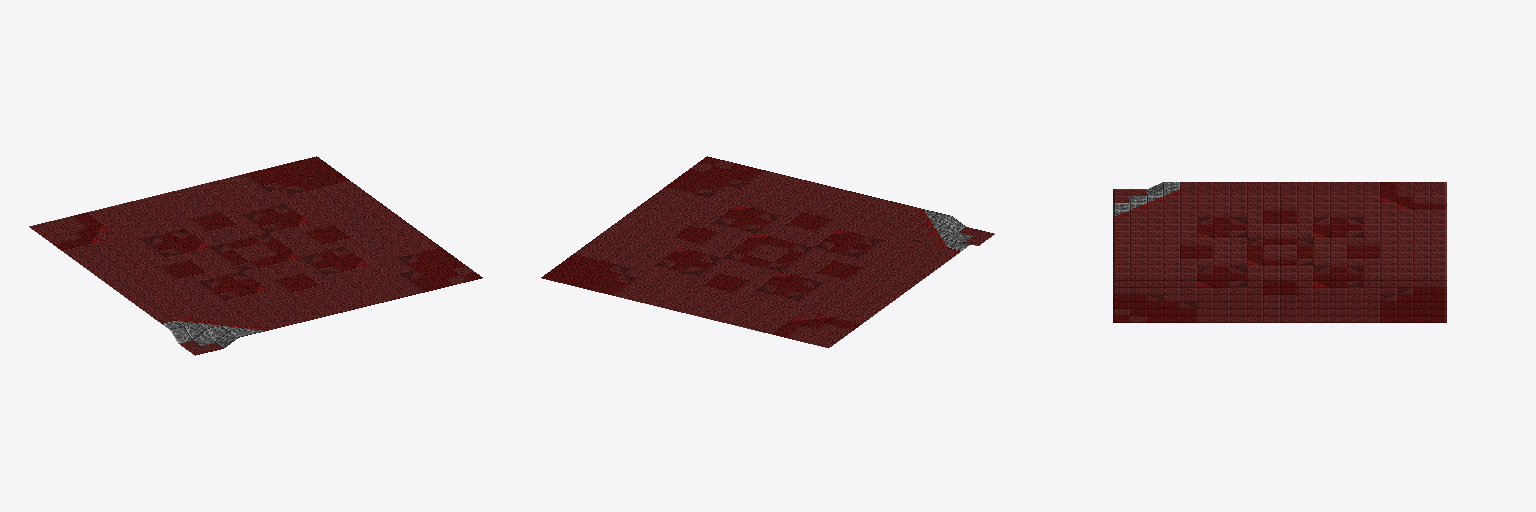
The picture shows the model from 3 angles: view 1: azimuth 30°, elevation 25°; view 2: azimuth 150°, elevation 25°; view 3: azimuth 270°, elevation 25°; orthographic projection.
Parts seen in each view (by area): view 1: FloorCentral_1; view 2: FloorCentral_1; view 3: FloorCentral_1.
Part boxes in pixels (bbox=[...]): FloorCentral_1: bbox=[29, 156, 482, 355]; FloorCentral_1: bbox=[541, 156, 994, 347]; FloorCentral_1: bbox=[1113, 182, 1446, 322].
Bounding box in the file's own units: 20 × 0.4822 × 20.
Materials: 11 (11 with a texture image).